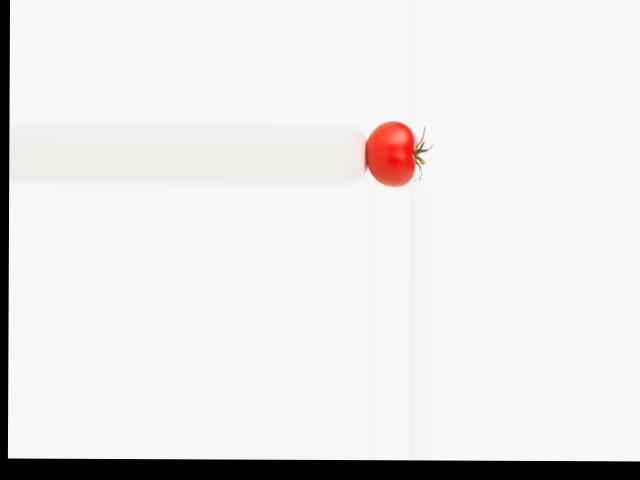tomato: (366, 120, 415, 186)
